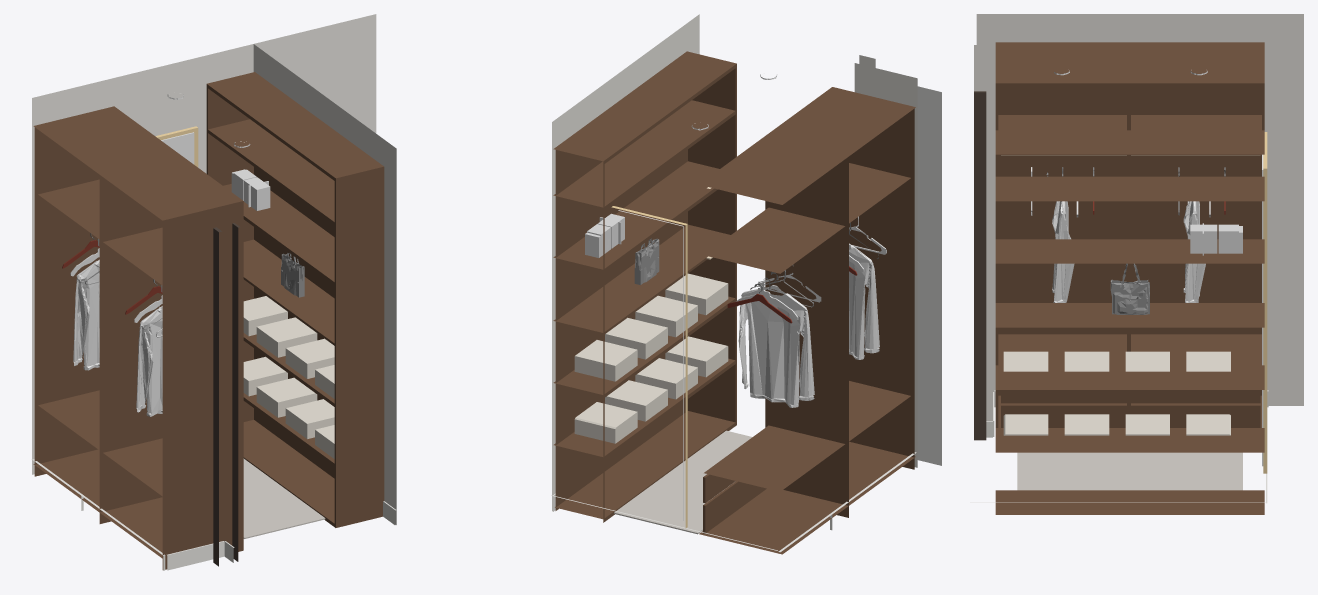
Rendered from DRESS.glb.
3 renders of one model, left to right at view 1: azimuth 30°, elevation 25°; view 2: azimuth 150°, elevation 25°; view 3: azimuth 270°, elevation 25°, orthographic. The views are drawn at different scales.
Parts seen in each view (by area): view 1: WEB_DRESS; view 2: WEB_DRESS; view 3: WEB_DRESS.
Part boxes in pixels (left/top/right/bottom): WEB_DRESS: left=31, top=14, right=396, bottom=570; WEB_DRESS: left=551, top=14, right=941, bottom=554; WEB_DRESS: left=970, top=14, right=1303, bottom=514.
Bounding box in the file's own units: 2.5 × 2.5 × 1.93.
